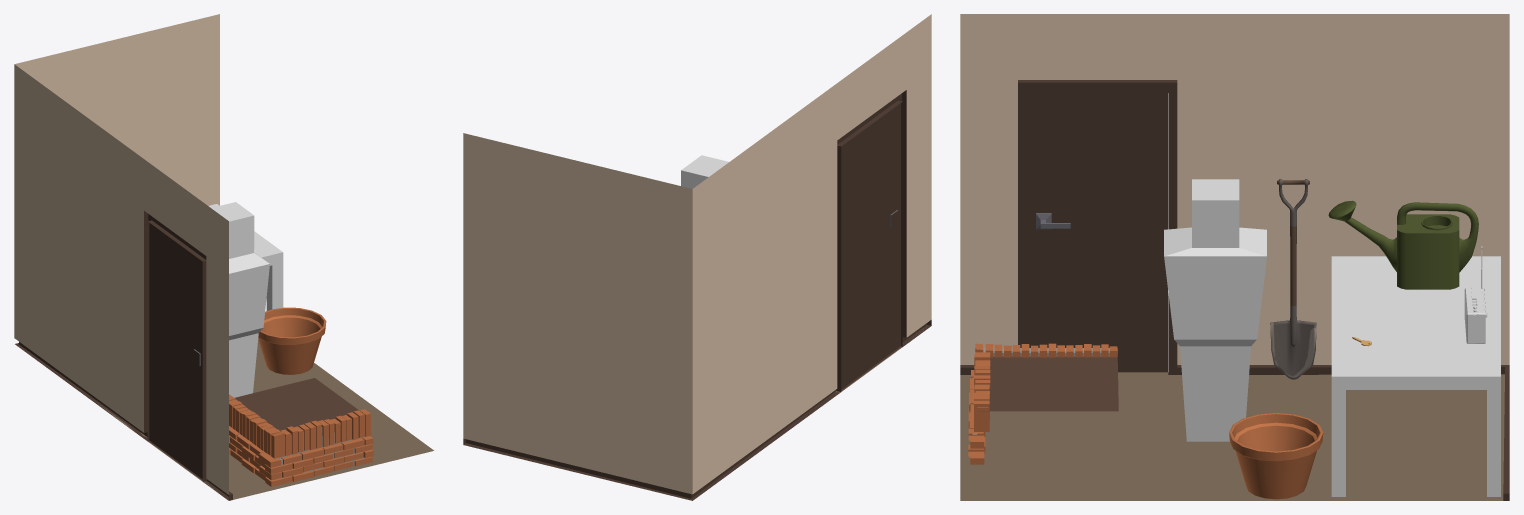
The model's file is ReferenceCorner.fbx.
3 views of the same model, side by side, from view 1: azimuth 30°, elevation 25°; view 2: azimuth 150°, elevation 25°; view 3: azimuth 270°, elevation 25° (orthographic). The views are drawn at different scales.
Visible parts, largest first — view 1: Cube, Cube.003, Cube.002, SM_PlantationCorner, Cube.001, SM_PotEmpty, Plane; view 2: Cube, Cube.002, Cube.003, Cube.001; view 3: Cube.003, Cube, Cube.002, Plane, Cube.001, SM_PlantationCorner, SM_Wateringcan, SM_PotEmpty, Shovel, Radio.
Boxes of the visible parts, left/top/right/bottom form: Cube: left=14, top=15, right=433, bottom=500; Cube.003: left=15, top=14, right=362, bottom=486; Cube.002: left=147, top=221, right=204, bottom=480; SM_PlantationCorner: left=229, top=378, right=373, bottom=486; Cube.001: left=211, top=202, right=269, bottom=397; SM_PotEmpty: left=258, top=307, right=326, bottom=374; Plane: left=208, top=204, right=283, bottom=310; Cube: left=463, top=14, right=931, bottom=500; Cube.002: left=840, top=101, right=902, bottom=390; Cube.003: left=463, top=90, right=931, bottom=498; Cube.001: left=681, top=155, right=728, bottom=188; Cube.003: left=960, top=14, right=1509, bottom=500; Cube: left=960, top=64, right=1509, bottom=500; Cube.002: left=1027, top=93, right=1167, bottom=372; Plane: left=1331, top=256, right=1500, bottom=496; Cube.001: left=1164, top=179, right=1266, bottom=441; SM_PlantationCorner: left=968, top=343, right=1118, bottom=464; SM_Wateringcan: left=1328, top=200, right=1478, bottom=289; SM_PotEmpty: left=1229, top=413, right=1323, bottom=499; Shovel: left=1270, top=179, right=1316, bottom=379; Radio: left=1464, top=246, right=1487, bottom=343.
Bounding box in the file's own units: 213 × 264 × 367.
